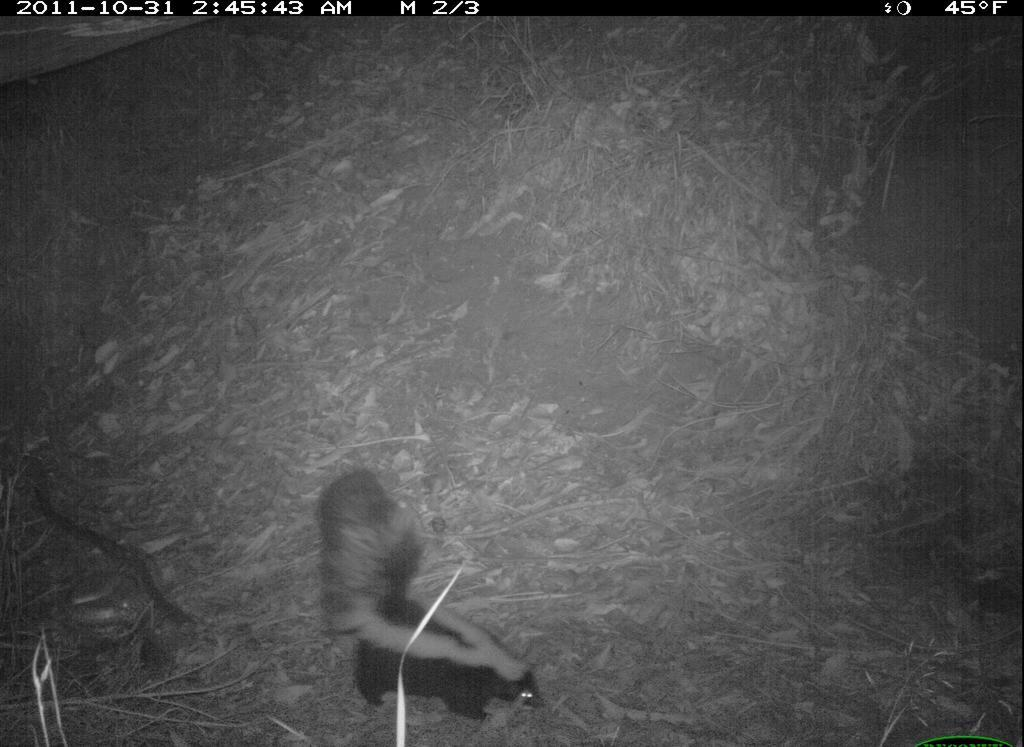skunk: (310, 463, 548, 724)
